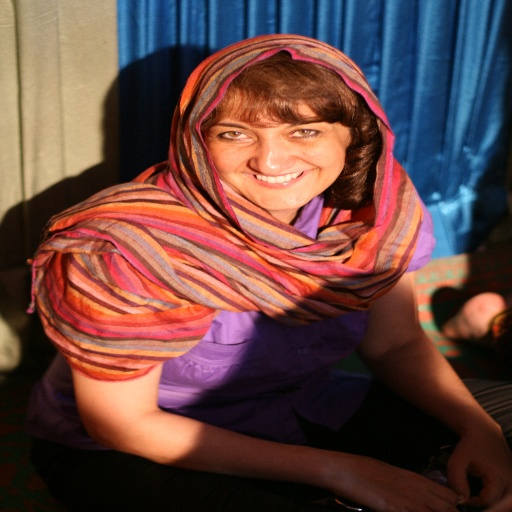hand: (233, 433, 461, 505), (445, 426, 511, 511)
